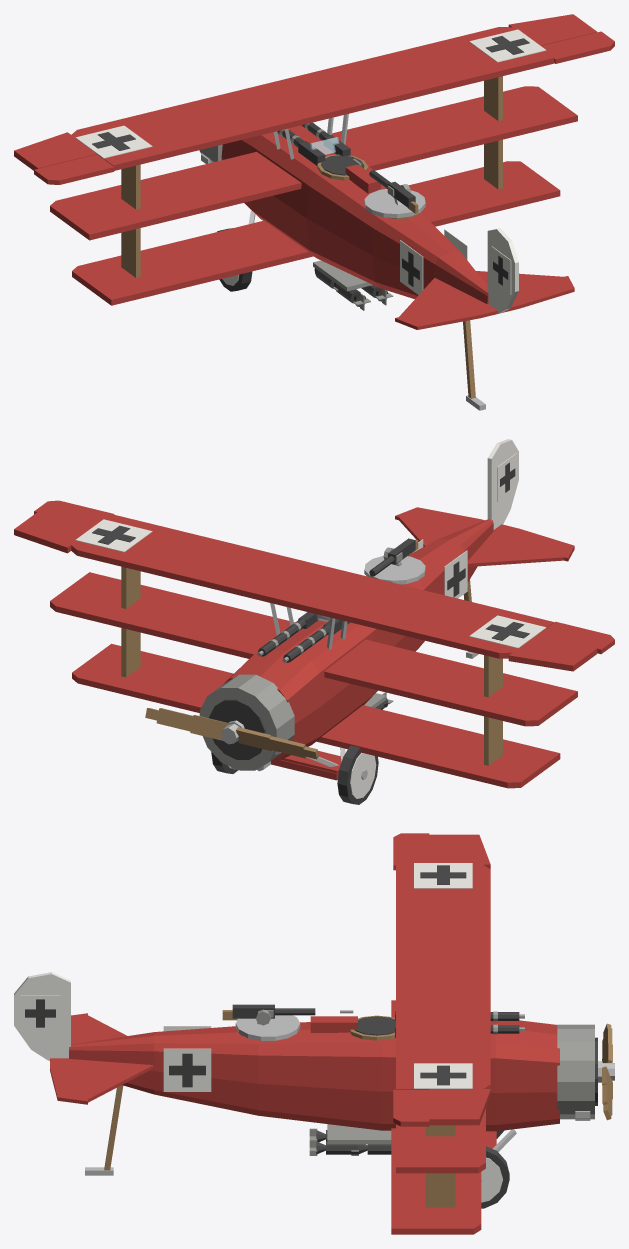
3 renders of one model, top to bottom at view 1: azimuth 30°, elevation 25°; view 2: azimuth 150°, elevation 25°; view 3: azimuth 270°, elevation 25°, orthographic. The views are drawn at different scales.
Visible parts, largest first — view 1: hull, elevator, rudder, aileron_L, aileron_R, turret, gun, gun_R, gun_L; view 2: hull, prop, elevator, rudder, gear, turret, aileron_L, aileron_R, gun_R, gun_L, gun; view 3: hull, rudder, elevator, aileron_R, gear, turret, gun, aileron_L, prop, bomb_4.
Part boxes in pixels (box(x1,y1,x2,y2)): hull: box(14, 14, 596, 410); elevator: box(395, 276, 574, 329); rudder: box(487, 228, 518, 313); aileron_L: box(34, 154, 114, 184); aileron_R: box(541, 31, 614, 63); turret: box(364, 185, 425, 218); gun: box(353, 158, 418, 213); gun_R: box(301, 122, 350, 156); gun_L: box(277, 129, 325, 165); hull: box(14, 511, 597, 788); prop: box(145, 708, 319, 759); elevator: box(395, 507, 574, 561); rudder: box(487, 439, 518, 529); gear: box(211, 745, 378, 804); turret: box(364, 552, 425, 584); aileron_L: box(539, 621, 614, 654); aileron_R: box(34, 500, 114, 525); gun_R: box(257, 612, 321, 656); gun_L: box(282, 619, 349, 662); gun: box(369, 538, 418, 576); hull: box(69, 834, 602, 1234); rudder: box(14, 972, 70, 1060); elevator: box(50, 1013, 87, 1104); aileron_R: box(393, 1089, 429, 1126); gear: box(481, 1130, 509, 1208); turret: box(235, 1010, 300, 1040); gun: box(222, 1004, 353, 1025); aileron_L: box(393, 833, 429, 870); prop: box(602, 1023, 614, 1120); bomb_4: box(309, 1140, 357, 1155).
Bounding box in the file's own units: 7.2 × 2.34 × 6.34.
